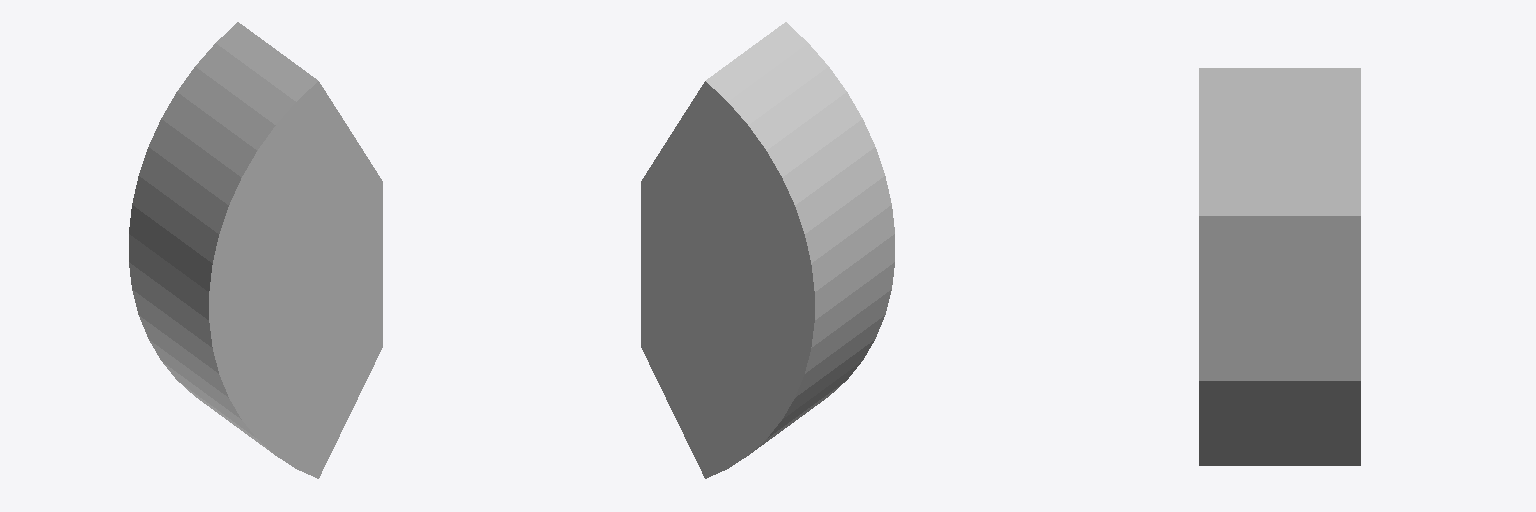
File: round_triangle_hole_0.obj
3 renders of one model, left to right at view 1: azimuth 30°, elevation 25°; view 2: azimuth 150°, elevation 25°; view 3: azimuth 270°, elevation 25°, orthographic.
Parts seen in each view (by area): view 1: Body129; view 2: Body129; view 3: Body129.
Boxes of the visible parts, x1,y1,x2,y2 form: Body129: [129, 22, 382, 478]; Body129: [641, 22, 894, 478]; Body129: [1199, 68, 1360, 465].
Bounding box in the file's own units: 0.0499 × 0.1091 × 0.04.